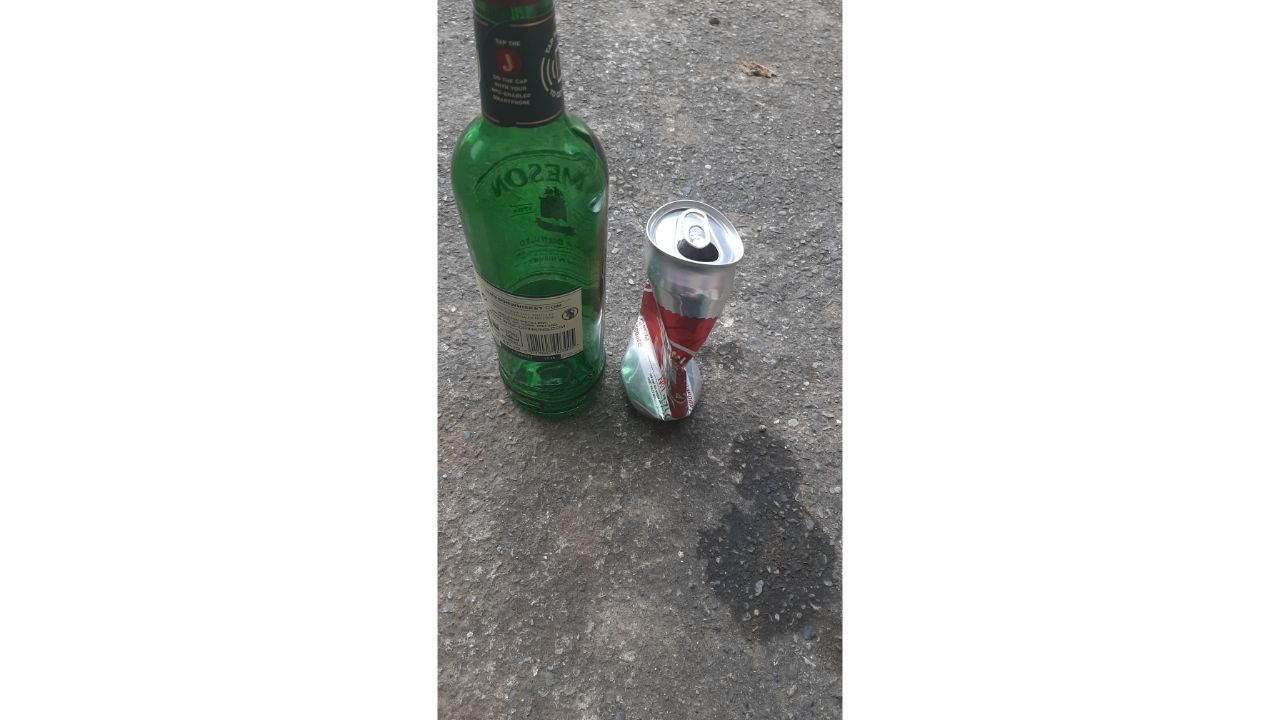Can: (614, 191, 755, 430)
